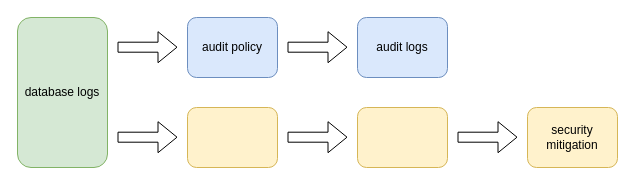
This 635x185 diagram has some shape labels left out. Here are the shapes that lost their labels. From the top down, the centre of each, then its label:
[232,137]: security policy
[402,137]: security events
